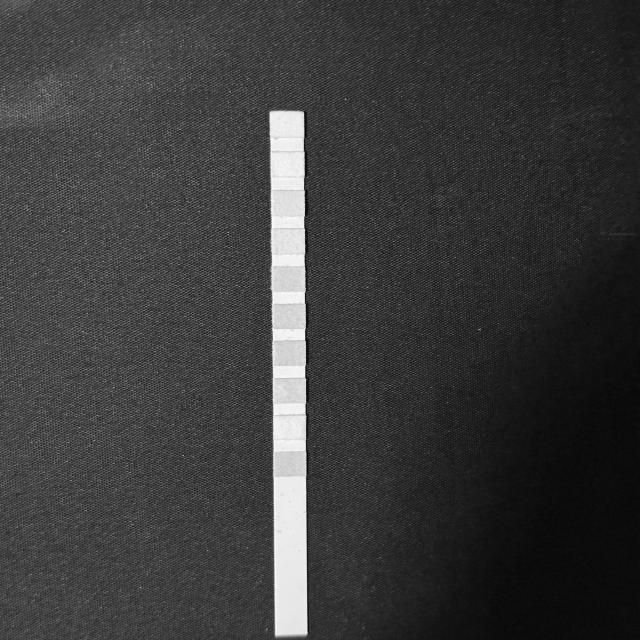Bilirubin: (274, 415, 306, 440)
Blood: (274, 304, 306, 328)
Glucose: (275, 452, 306, 476)
Ketone: (274, 379, 306, 403)
Leukocytes: (270, 111, 304, 138)
Nitrite: (272, 152, 304, 177)
Protein: (272, 229, 304, 254)
SpGravity: (274, 341, 306, 365)
Urobilinogen: (272, 190, 304, 216)
background: (0, 0, 640, 640)
pH: (273, 267, 305, 291)
strip: (270, 111, 307, 636)
